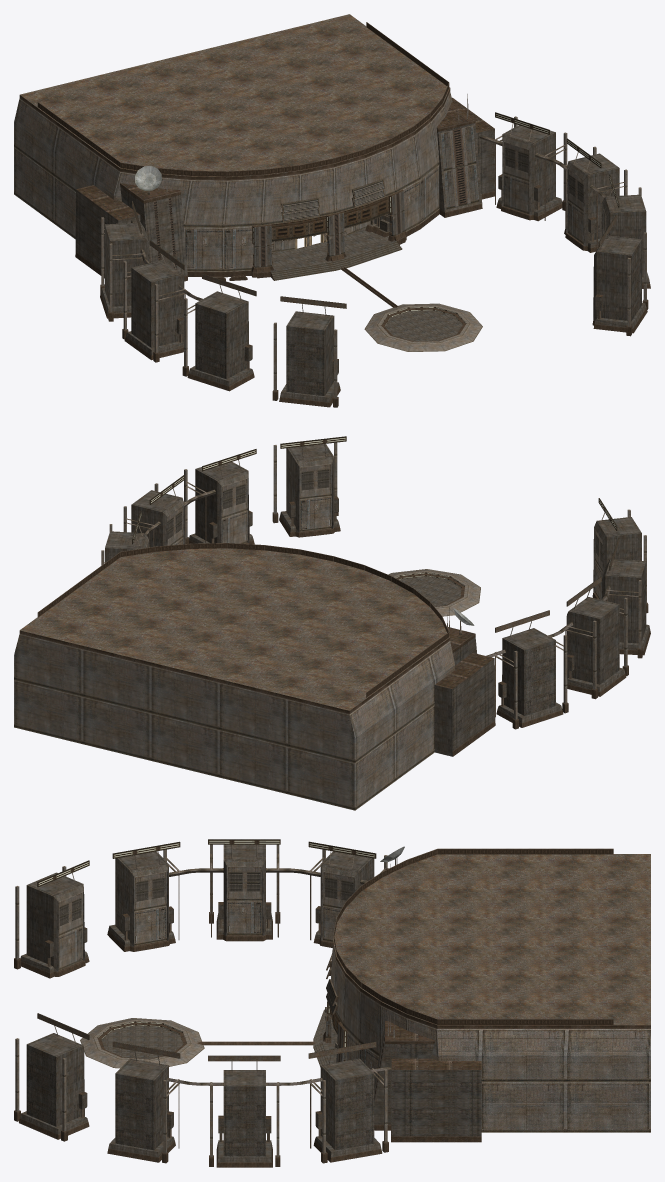
Rendered from thm_lok_nyms_stronghold_r0_mesh_l1.fbx.
The picture shows the model from 3 angles, top to bottom: view 1: azimuth 30°, elevation 25°; view 2: azimuth 150°, elevation 25°; view 3: azimuth 270°, elevation 25°; orthographic projection. The views are drawn at different scales.
Parts seen in each view (by area): view 1: mesh_node; view 2: mesh_node; view 3: mesh_node.
Boxes of the visible parts, <box> form: mesh_node: <box>14,14,650,407</box>; mesh_node: <box>14,436,650,810</box>; mesh_node: <box>14,839,650,1167</box>.
Bounding box in the file's own units: 110 × 24.59 × 120.
